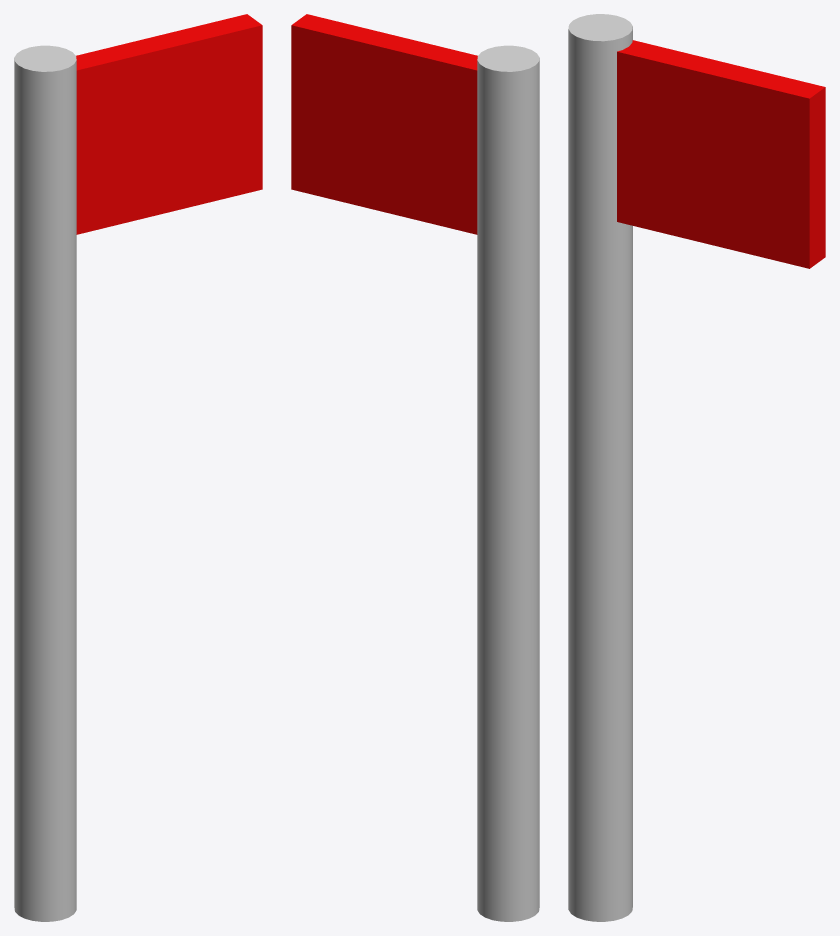
Rendered from flagpole.glb.
The picture shows the model from 3 angles, left to right: view 1: azimuth 30°, elevation 25°; view 2: azimuth 150°, elevation 25°; view 3: azimuth 330°, elevation 25°; orthographic projection. The views are drawn at different scales.
Parts seen in each view (by area): view 1: pole, Cube; view 2: pole, Cube; view 3: pole, Cube.
Part boxes in pixels (x1,y1,x2,y2): pole: (14,45,76,921); Cube: (76,14,262,234); pole: (477,45,539,921); Cube: (291,14,477,234); pole: (568,14,632,921); Cube: (617,40,825,268).
Bounding box in the file's own units: 0.4366 × 1.5 × 0.1.
